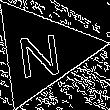N_N: (17, 24, 66, 79)
